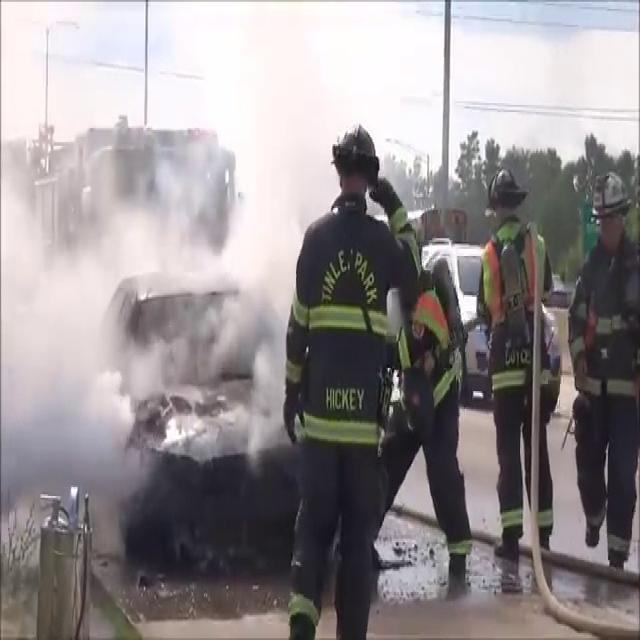Smoke: (2, 32, 331, 521)
